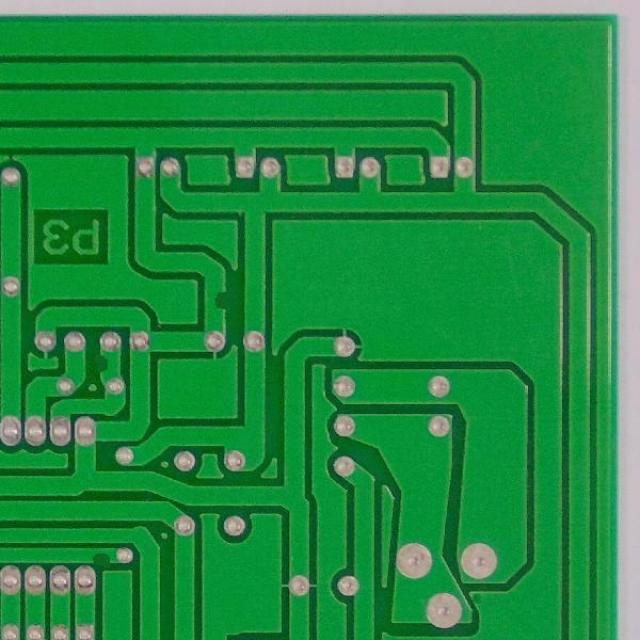mouse_bite: (205, 285, 232, 316), (85, 546, 122, 568), (95, 350, 113, 377)
